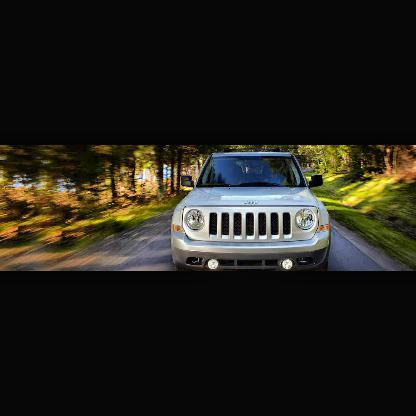Jeep Patriot SUV 2012: (173, 154, 334, 271)
